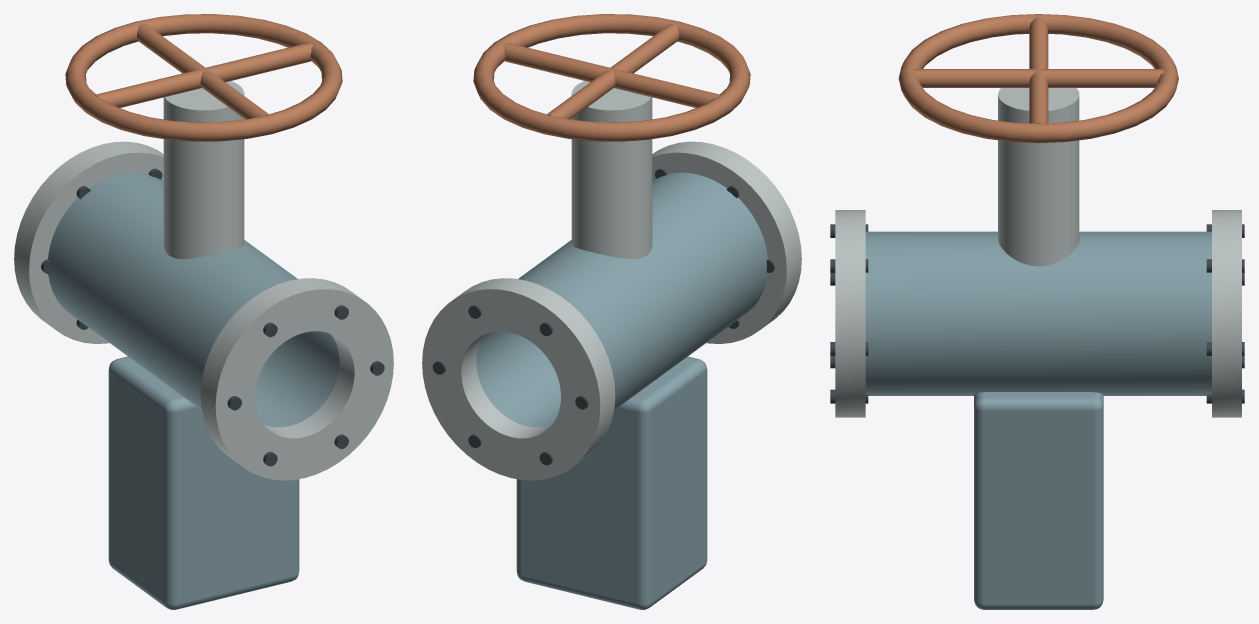
File: abandoned-tidal-model-testing-hall-flow-control-valve-6644664d__32344.glb
3 views of the same model, side by side, from view 1: azimuth 30°, elevation 25°; view 2: azimuth 150°, elevation 25°; view 3: azimuth 270°, elevation 25° (orthographic).
Visible parts, largest first — view 1: flow-control-valve; view 2: flow-control-valve; view 3: flow-control-valve.
Boxes of the visible parts, <box> form: flow-control-valve: <box>14,14,393,609</box>; flow-control-valve: <box>422,14,801,609</box>; flow-control-valve: <box>830,14,1244,609</box>.
Size of the model in its own units: 0.324 by 0.652 by 0.479.
